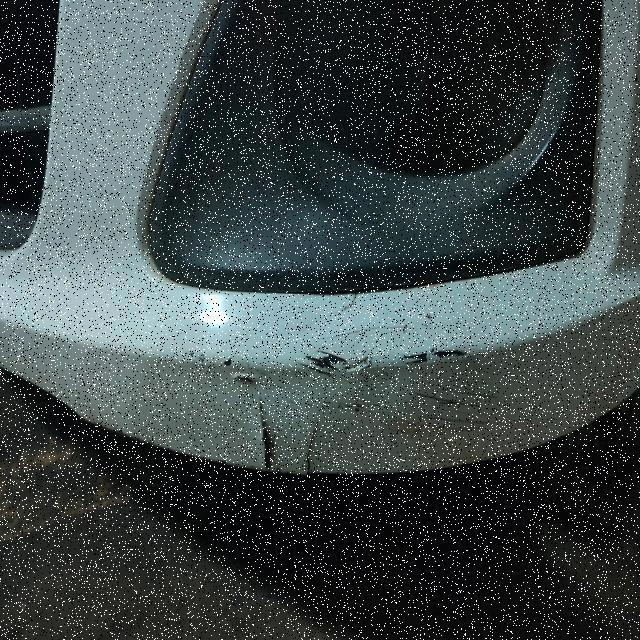hood: (116, 4, 618, 488)
